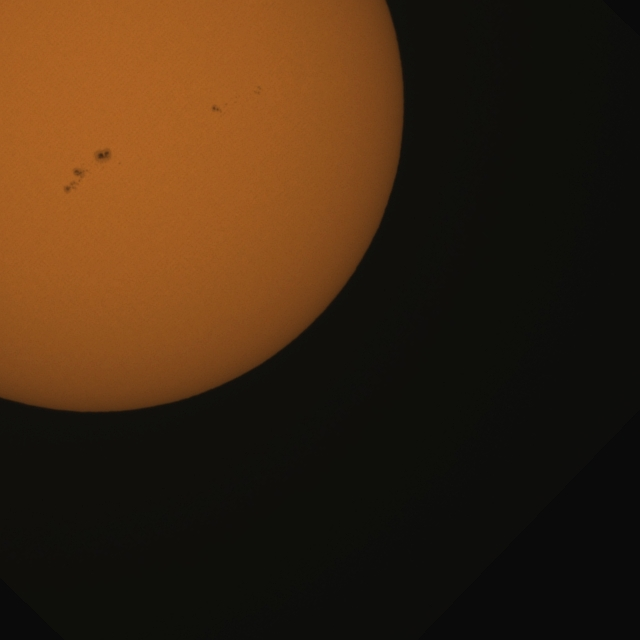sunspot: (63, 167, 90, 194), (94, 147, 113, 166), (210, 102, 229, 117), (252, 84, 263, 97)
